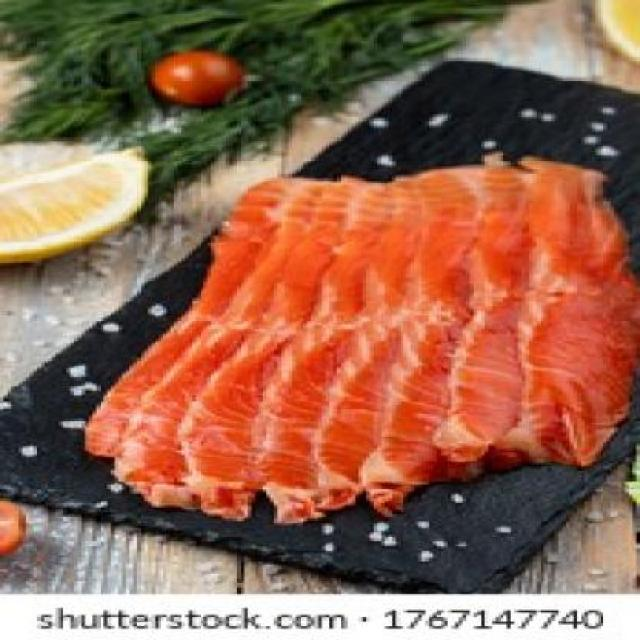salmon: (100, 145, 640, 533)
